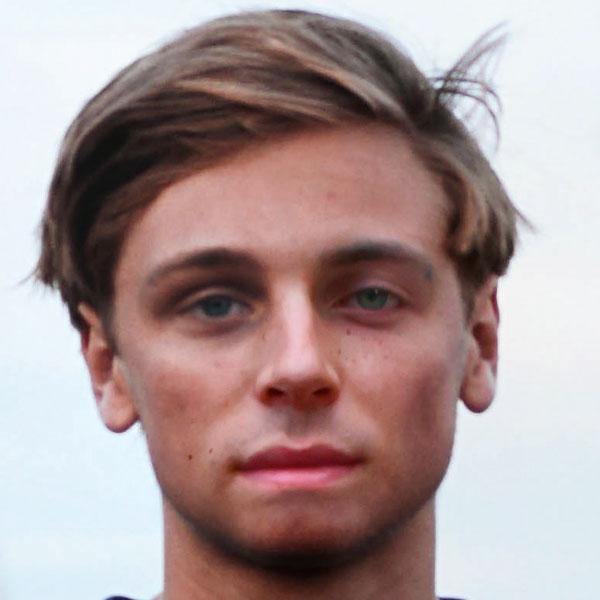Eyes: (165, 280, 264, 339), (321, 275, 423, 324)
